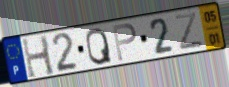2: (51, 31, 80, 74), (149, 17, 176, 56)
H: (20, 34, 57, 81)
P: (111, 22, 138, 64)
Q: (85, 26, 114, 66)
Z: (172, 11, 205, 52)
